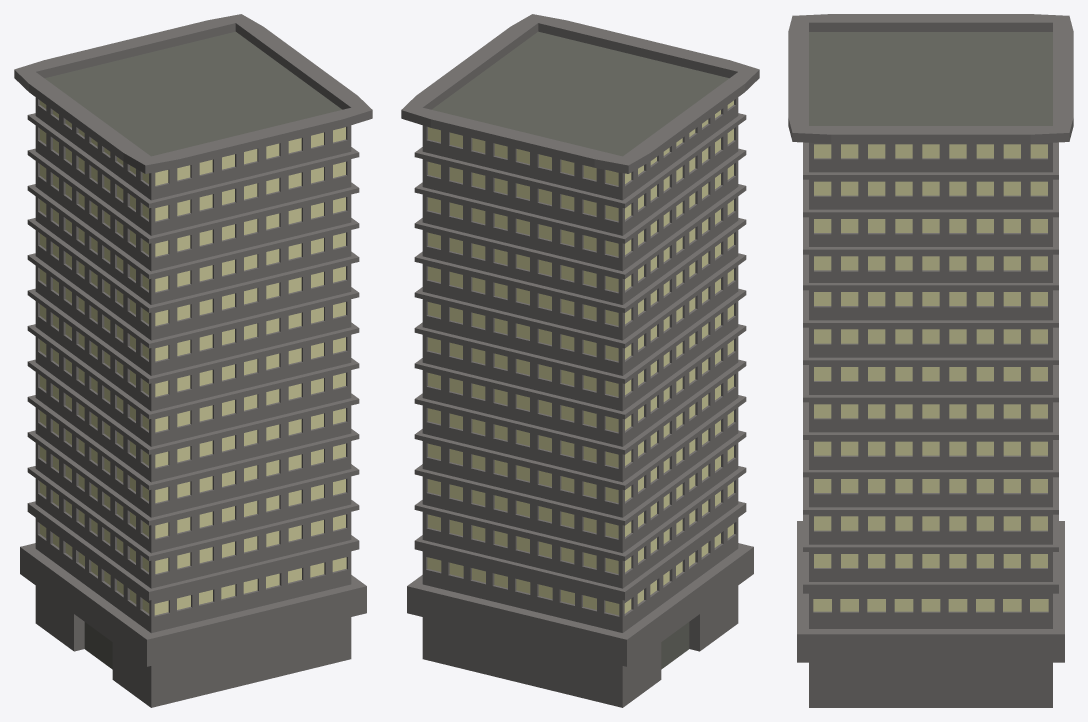
3 views of the same model, side by side, from view 1: azimuth 30°, elevation 25°; view 2: azimuth 150°, elevation 25°; view 3: azimuth 270°, elevation 25° (orthographic). The views are drawn at different scales.
Parts seen in each view (by area): view 1: Plane.002; view 2: Plane.002; view 3: Plane.002.
Boxes of the visible parts, left/top/right/bottom form: Plane.002: left=14, top=14, right=372, bottom=707; Plane.002: left=401, top=14, right=759, bottom=707; Plane.002: left=788, top=14, right=1073, bottom=707.
Bounding box in the file's own units: 1635 × 3676 × 1635.
